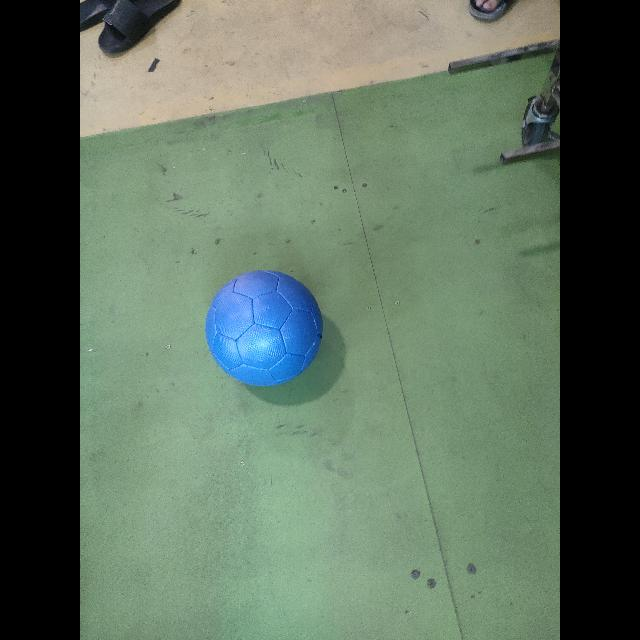B: (204, 270, 324, 390)
